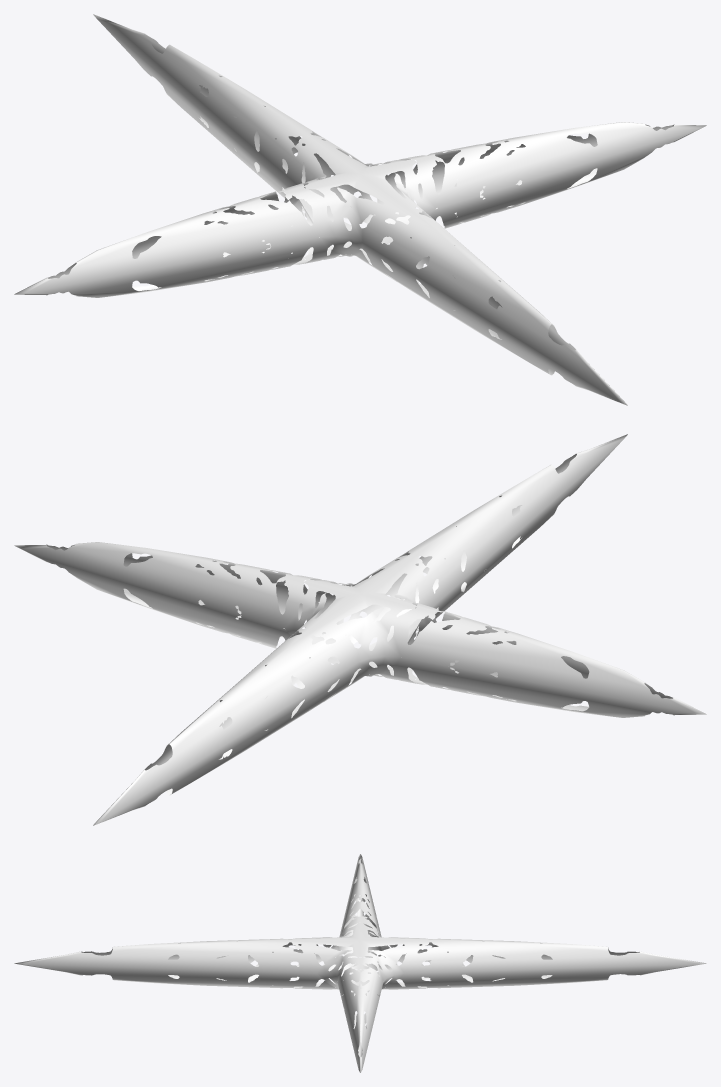
The model's file is getsuga-jujisho.fbx.
3 views of the same model, one above another, from view 1: azimuth 30°, elevation 25°; view 2: azimuth 150°, elevation 25°; view 3: azimuth 270°, elevation 25° (orthographic). The views are drawn at different scales.
Visible parts, largest first — view 1: Star.001; view 2: Star.001; view 3: Star.001.
Boxes of the visible parts, x1,y1,x2,y2 form: Star.001: (14, 14, 706, 405); Star.001: (14, 434, 706, 825); Star.001: (14, 854, 706, 1072).
Bounding box in the file's own units: 964 × 95 × 1290.
